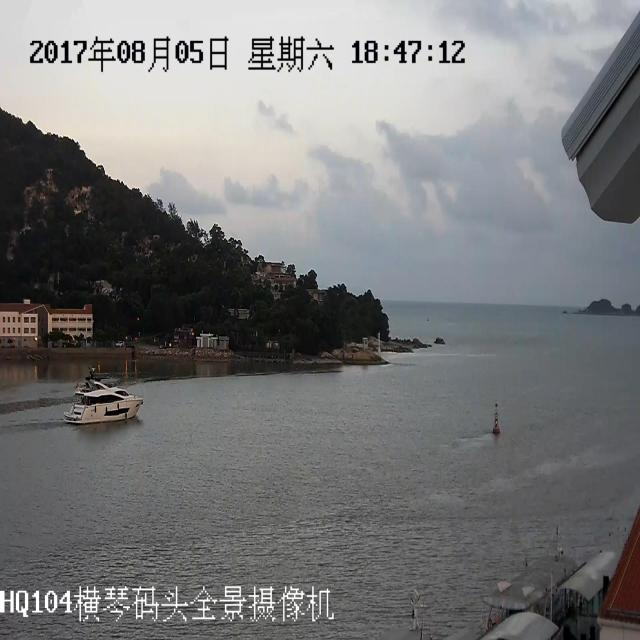buoy: (469, 386, 507, 438)
passenger ship: (57, 344, 152, 438)
